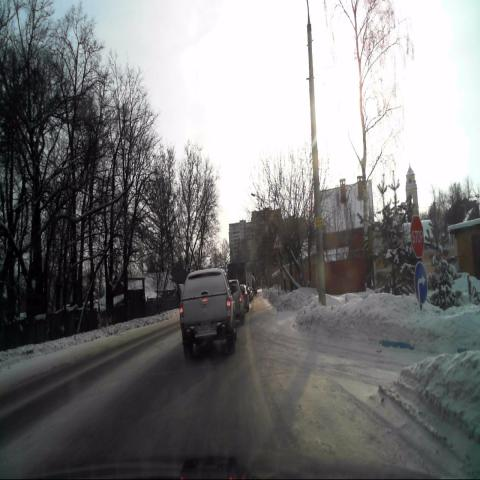2_5: (411, 216, 424, 258)
